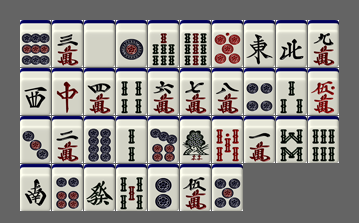0m: (308, 68, 339, 115)
0p: (212, 20, 243, 67)
0s: (212, 116, 243, 163)
1m: (244, 116, 275, 163)
1p: (116, 20, 147, 67)
1s: (180, 116, 211, 163)
1z: (244, 20, 275, 67)
2m: (52, 116, 83, 163)
2p: (148, 164, 179, 211)
2s: (116, 116, 147, 163)
2z: (20, 164, 51, 211)
3m: (52, 20, 83, 67)
3p: (20, 116, 51, 163)
3s: (276, 68, 307, 115)
3z: (20, 68, 51, 115)
4m: (84, 68, 115, 115)
4p: (244, 68, 275, 115)
4s: (116, 68, 147, 115)
4z: (276, 20, 307, 67)
5m: (180, 164, 211, 211)
5p: (212, 164, 243, 211)
5s: (116, 164, 147, 211)
5z: (84, 20, 115, 67)
6m: (148, 68, 179, 115)
6p: (52, 164, 83, 211)
6s: (308, 116, 339, 163)
6z: (84, 164, 115, 211)
7m: (180, 68, 211, 115)
7p: (148, 116, 179, 163)
7s: (148, 20, 179, 67)
7z: (52, 68, 83, 115)
8m: (212, 68, 243, 115)
8p: (84, 116, 115, 163)
8s: (276, 116, 307, 163)
9m: (308, 20, 339, 67)
9p: (20, 20, 51, 67)
9s: (180, 20, 211, 67)
